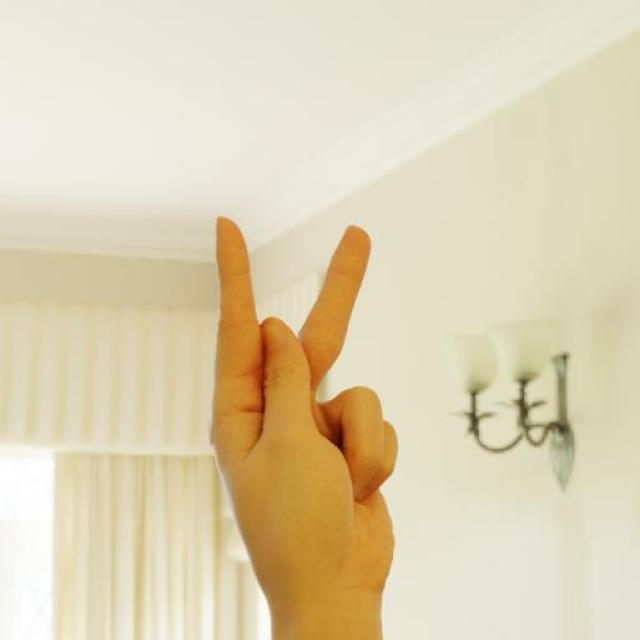K: (203, 210, 400, 606)
